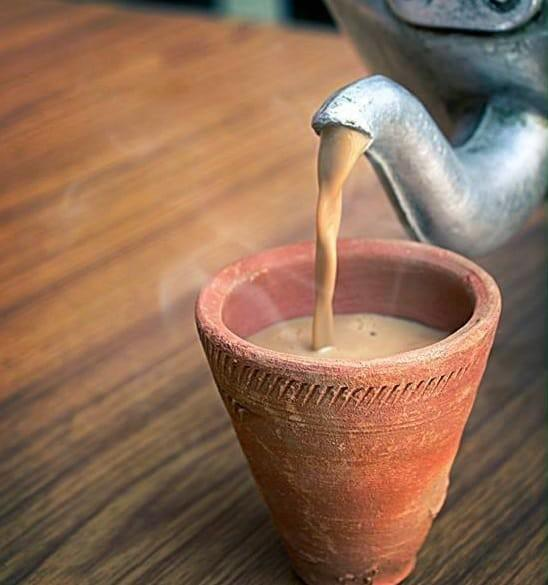Chai: (313, 121, 368, 355), (244, 312, 446, 359)
